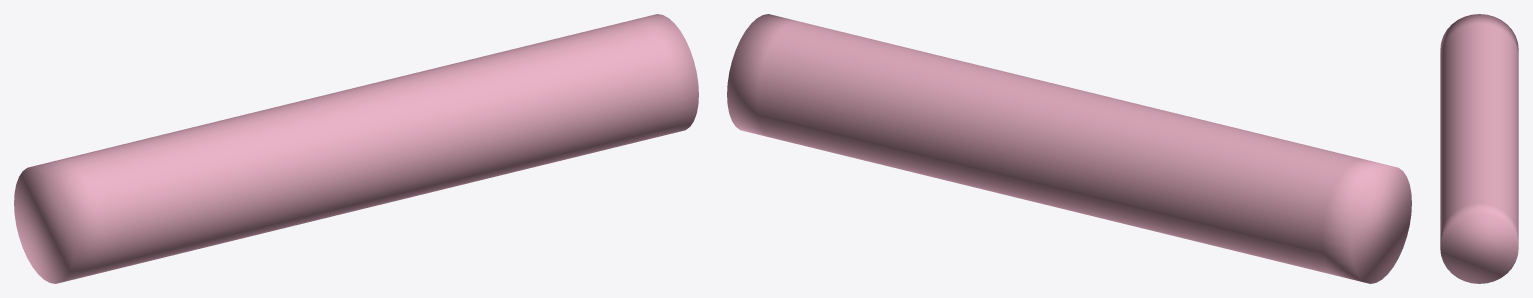
File: wall_01.glb
3 renders of one model, left to right at view 1: azimuth 30°, elevation 25°; view 2: azimuth 150°, elevation 25°; view 3: azimuth 270°, elevation 25°, orthographic. The views are drawn at different scales.
Visible parts, largest first — view 1: Wall_Disolve; view 2: Wall_Disolve; view 3: Wall_Disolve.
Part boxes in pixels (left/top/right/bottom): Wall_Disolve: left=14, top=14, right=698, bottom=283; Wall_Disolve: left=727, top=14, right=1411, bottom=283; Wall_Disolve: left=1440, top=14, right=1518, bottom=283.
Bounding box in the file's own units: 12 × 2 × 2.
